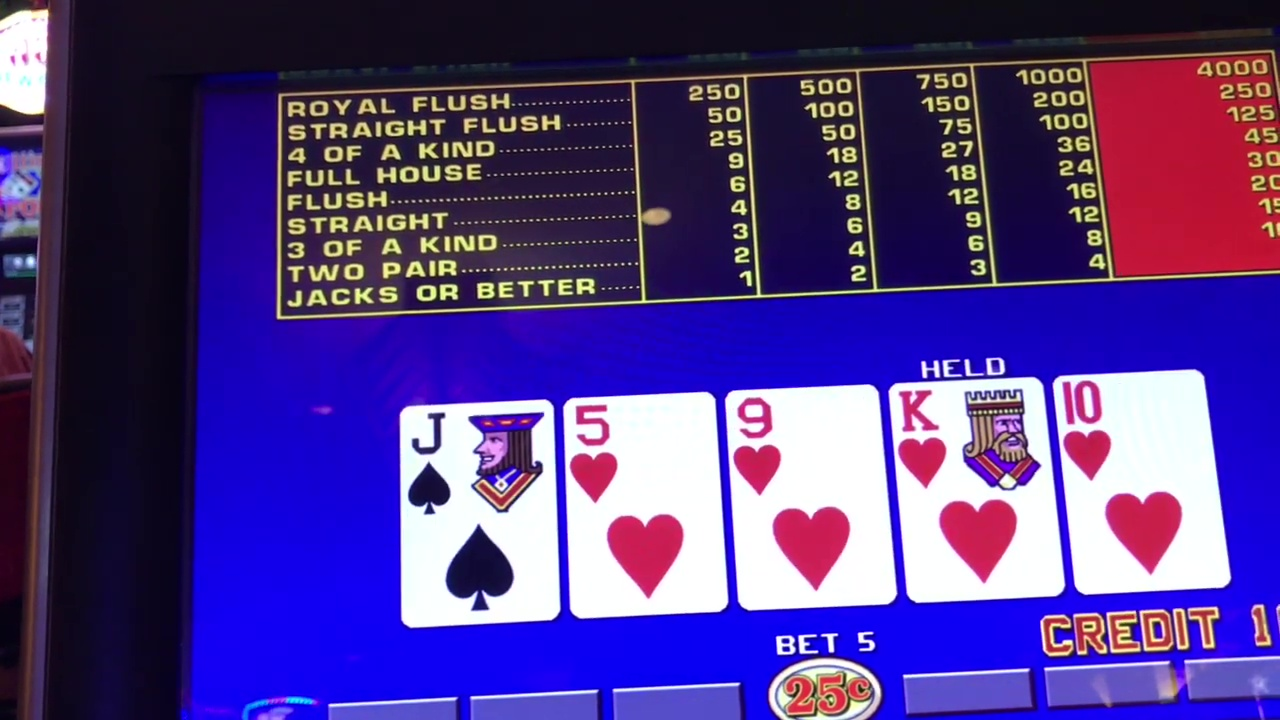H5: (566, 397, 720, 503)
H9: (737, 388, 879, 498)
HK: (899, 381, 1045, 488)
HT: (1066, 378, 1203, 481)
SJ: (406, 404, 551, 512)
